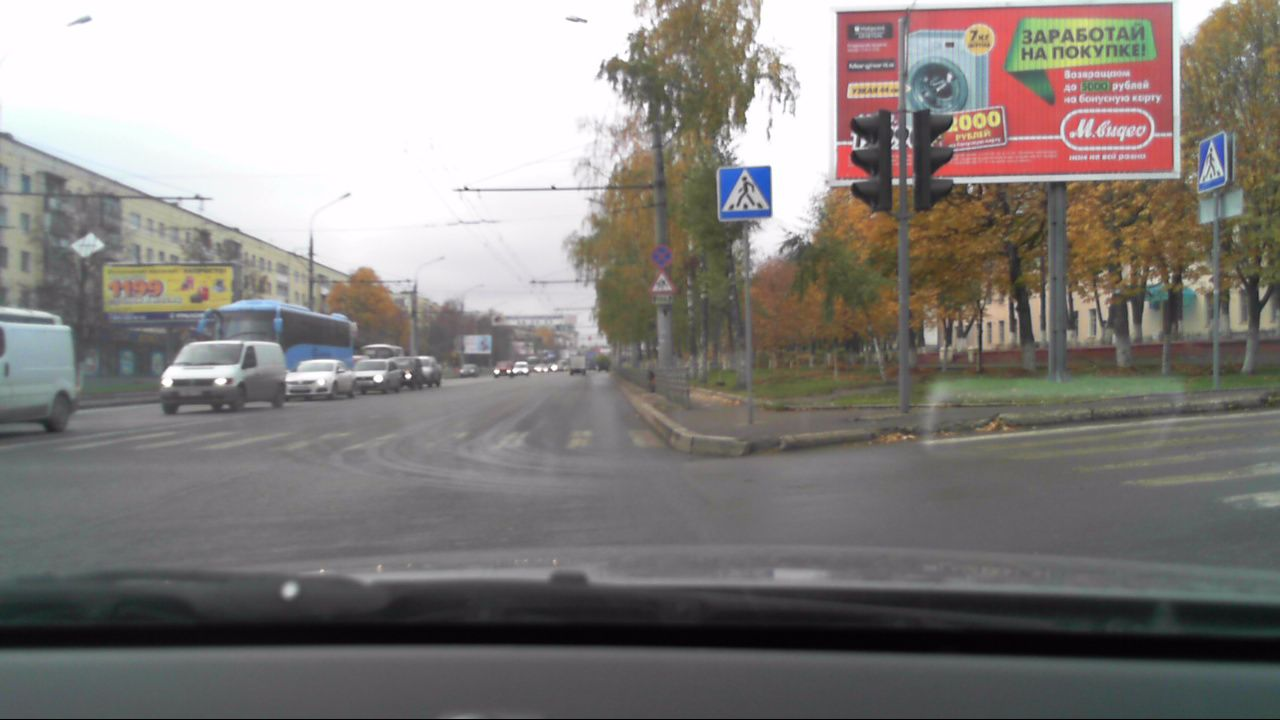No Parking: (649, 243, 676, 267)
